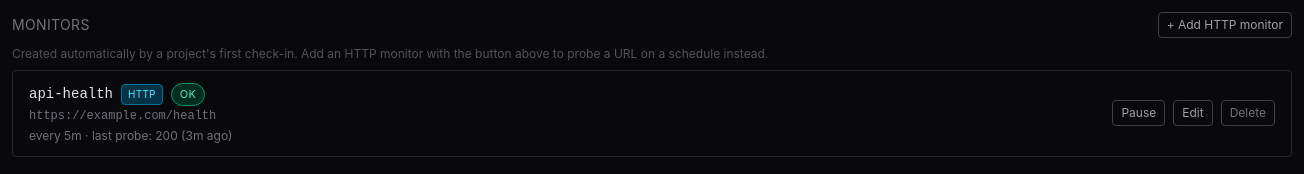
MonitorsSection — v0.9 CONTRACT (SPEC §24 uptime probes) › editing an http monitor's row shows URL/Timeout fields, not Grace
The image size is (1304, 174).
Click the button "Edit" at (1193, 113), box [1173, 100, 1213, 126]
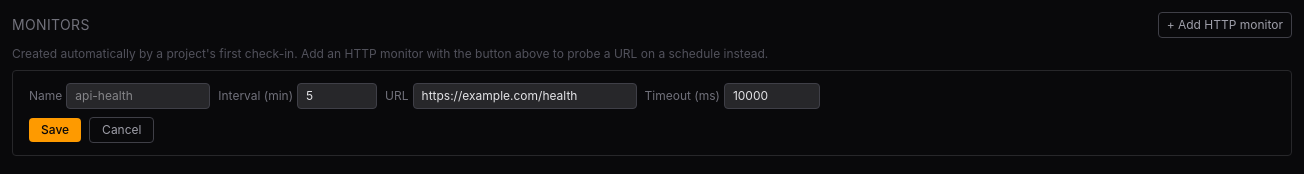
Expected: the field labelled "URL" is shown, [412, 83, 636, 109]
Expected: the number field labelled "Timeout (ms)" is shown, [724, 83, 820, 109]
